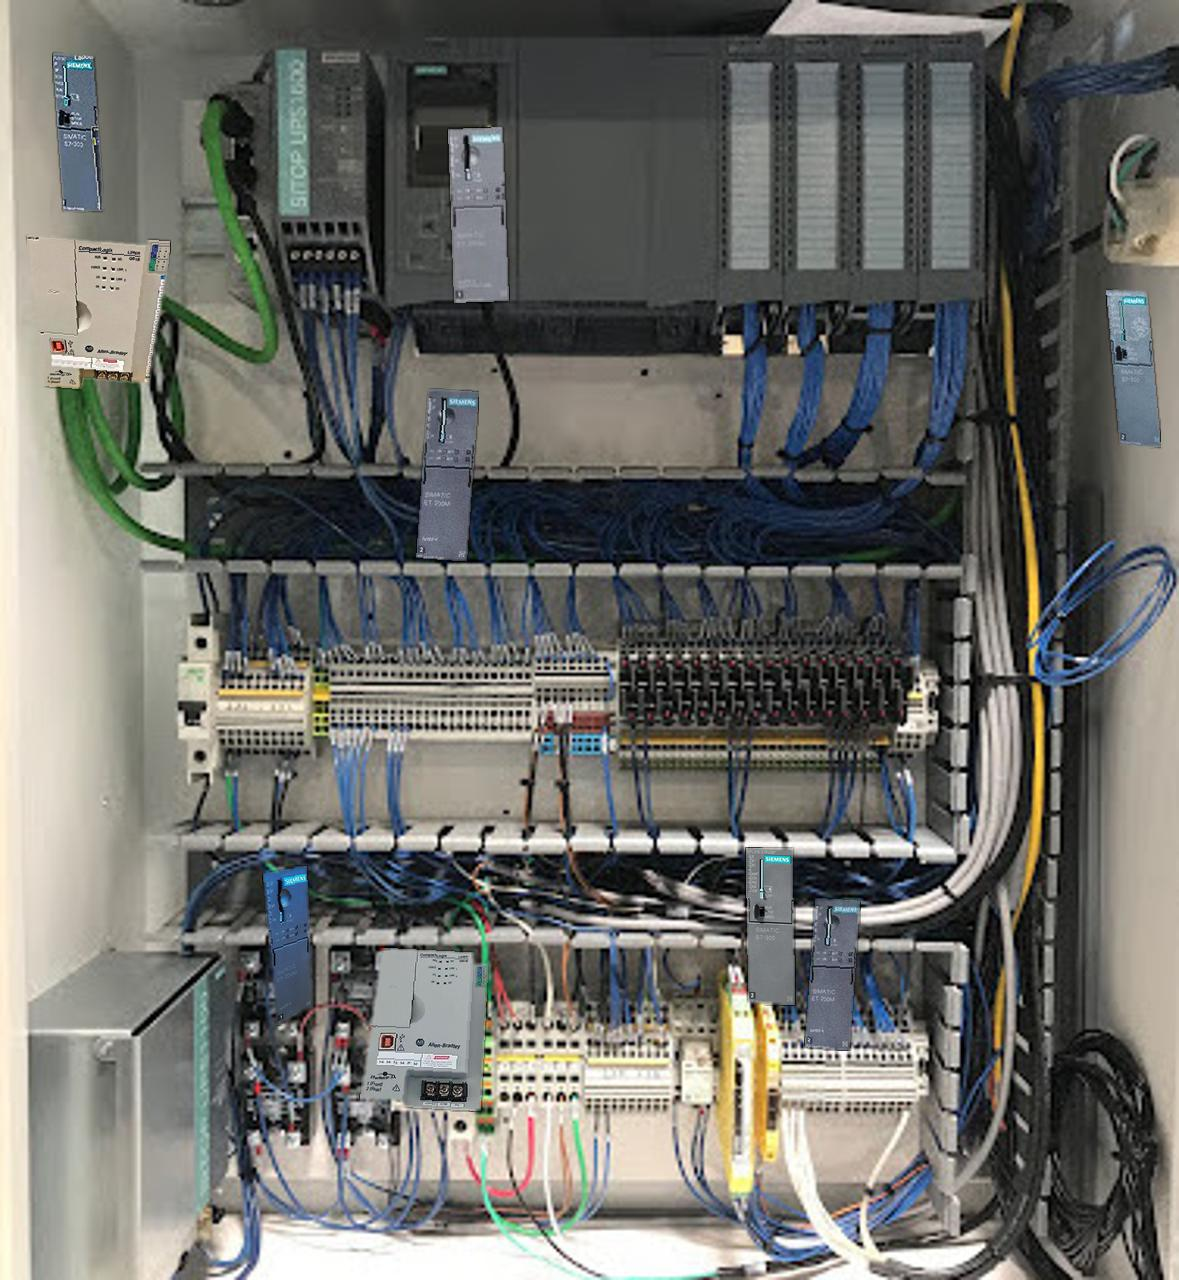AllenBradley: (27, 236, 170, 388), (360, 948, 486, 1111)
Siemens: (1106, 290, 1160, 446), (54, 54, 102, 210), (746, 849, 794, 1003)
